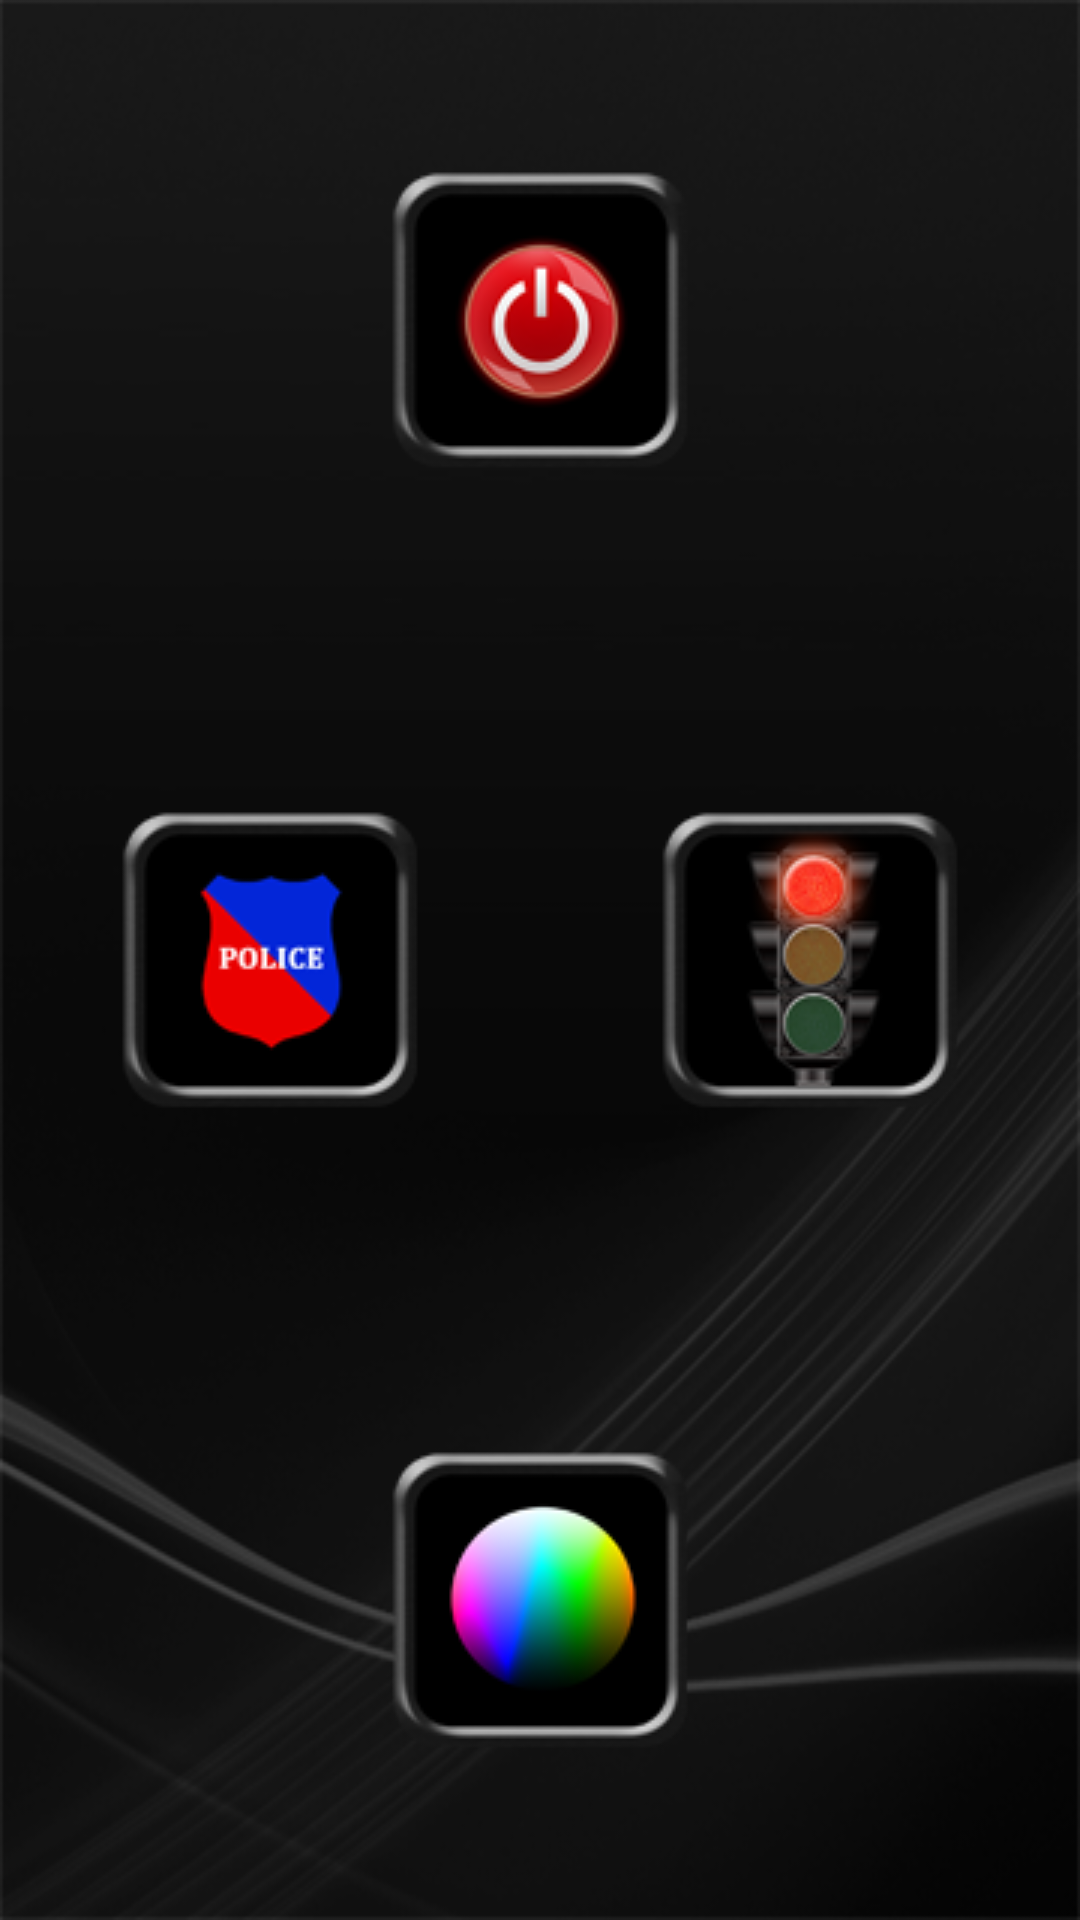

Icons on this 1080×1920 Android screen, each with its box as bbox(x1, y1, x2, y2):
traffic change: bbox(662, 812, 960, 1110)
